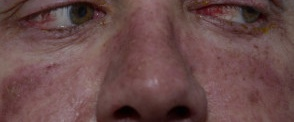SJS-TEN: (2, 18, 293, 121), (181, 0, 239, 24), (232, 18, 285, 42)
